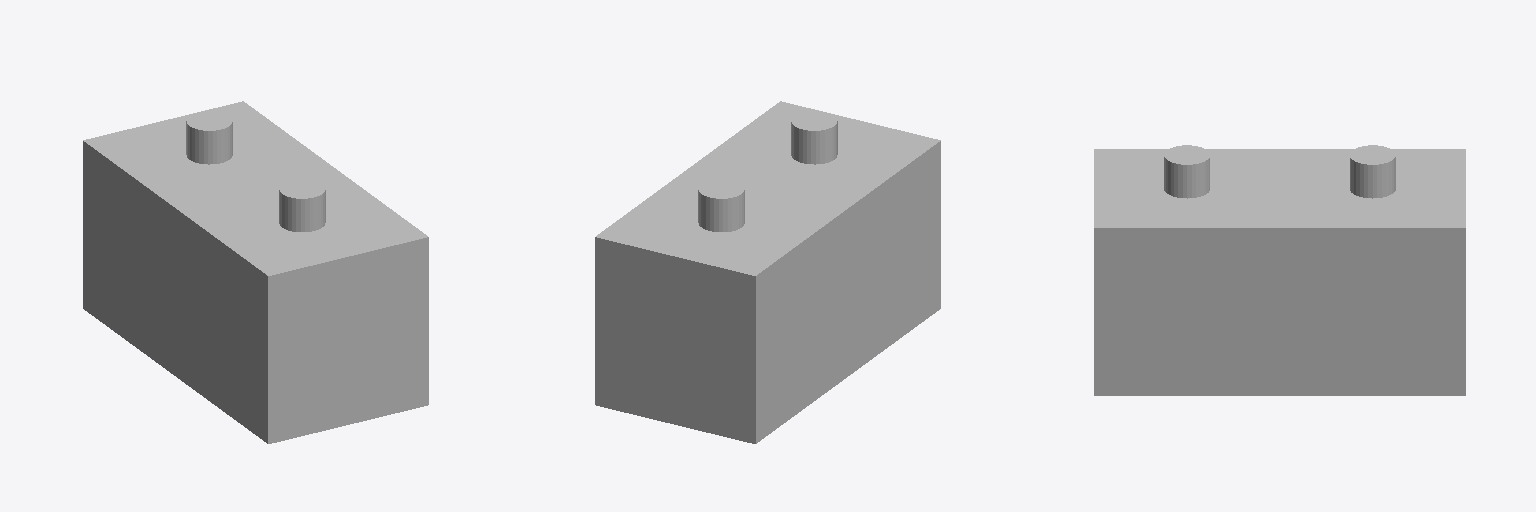
File: basic.obj
3 renders of one model, left to right at view 1: azimuth 30°, elevation 25°; view 2: azimuth 150°, elevation 25°; view 3: azimuth 270°, elevation 25°, orthographic.
Visible parts, largest first — view 1: Cylinder.001; view 2: Cylinder.001; view 3: Cylinder.001.
Part boxes in pixels (left/top/right/bottom): Cylinder.001: left=83, top=101, right=428, bottom=443; Cylinder.001: left=595, top=101, right=940, bottom=443; Cylinder.001: left=1094, top=145, right=1465, bottom=395.
Bounding box in the file's own units: 2 × 2.4 × 4.